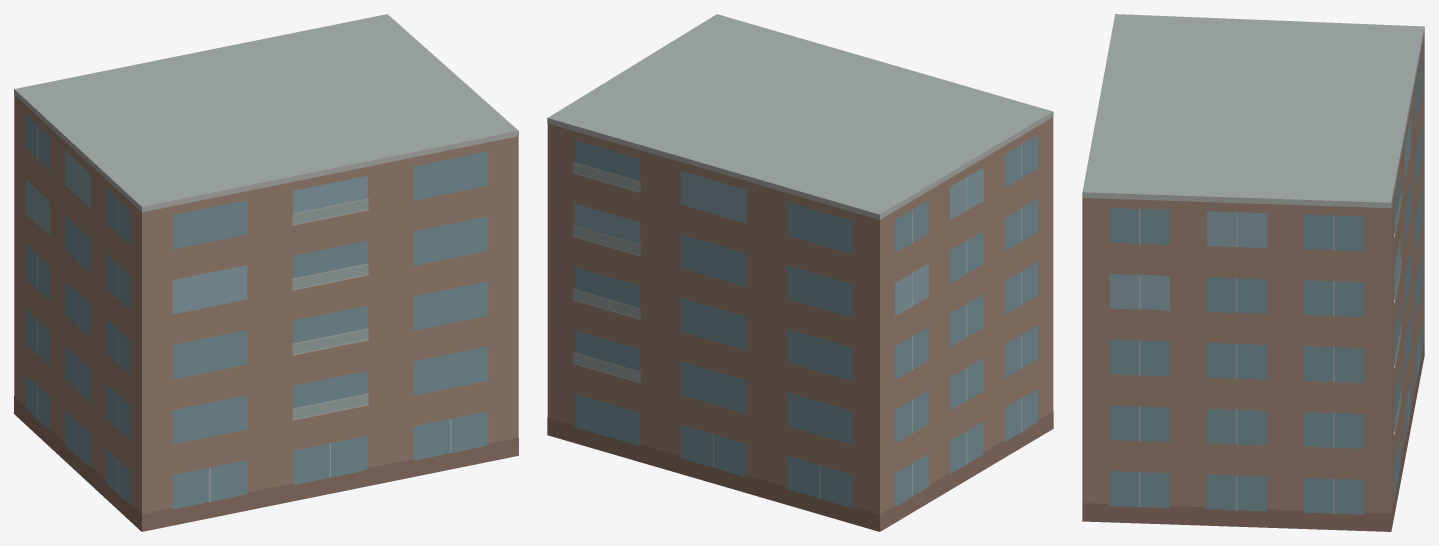
The model's file is survey-upis-32663422.glb.
3 views of the same model, side by side, from view 1: azimuth 30°, elevation 25°; view 2: azimuth 150°, elevation 25°; view 3: azimuth 270°, elevation 25° (orthographic). The views are drawn at different scales.
Parts seen in each view (by area): view 1: survey-upis-32663422.tmp; view 2: survey-upis-32663422.tmp; view 3: survey-upis-32663422.tmp.
Part boxes in pixels (x1,y1,x2,y2): survey-upis-32663422.tmp: (14, 14, 518, 531); survey-upis-32663422.tmp: (547, 14, 1053, 531); survey-upis-32663422.tmp: (1082, 14, 1424, 531).
Bounding box in the file's own units: 17.97 × 14.6 × 13.77.
